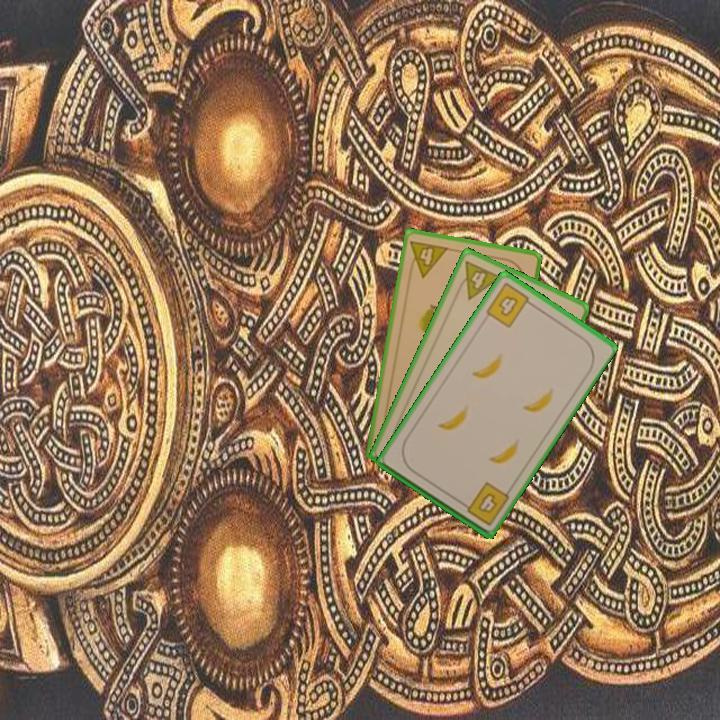4b: (482, 279, 537, 330), (457, 478, 512, 528)
4p: (452, 257, 504, 302), (405, 237, 451, 280)
